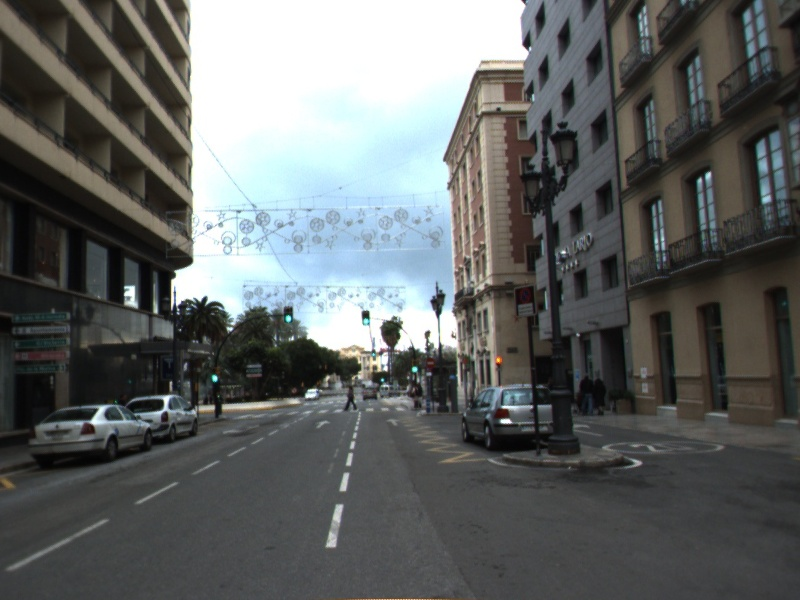STRAIGHT: (313, 418, 333, 430), (384, 416, 402, 428)
STRAIGHT_LEFT: (221, 422, 262, 437)
